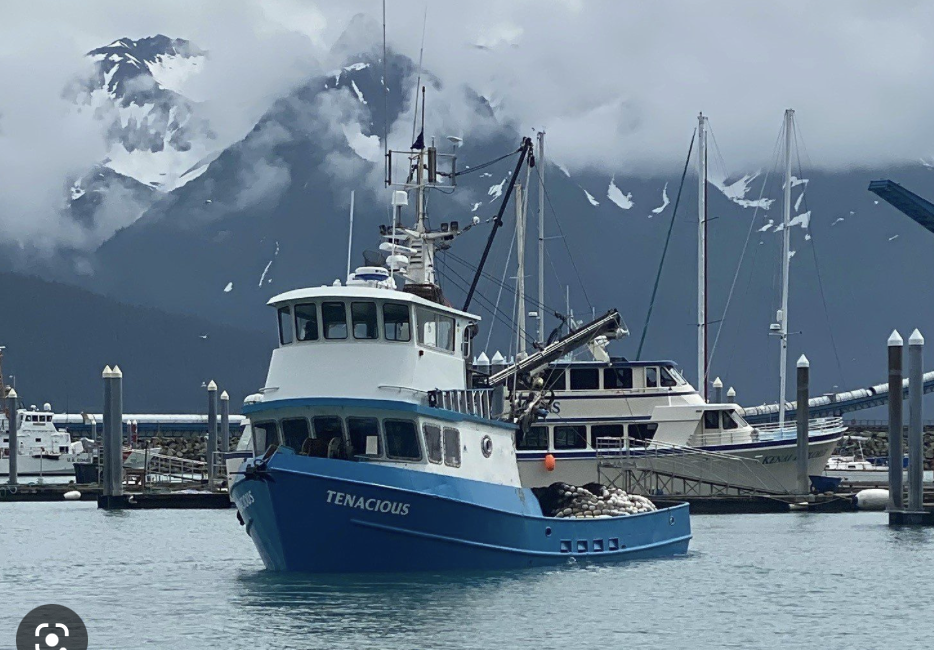ship: (205, 114, 710, 568)
